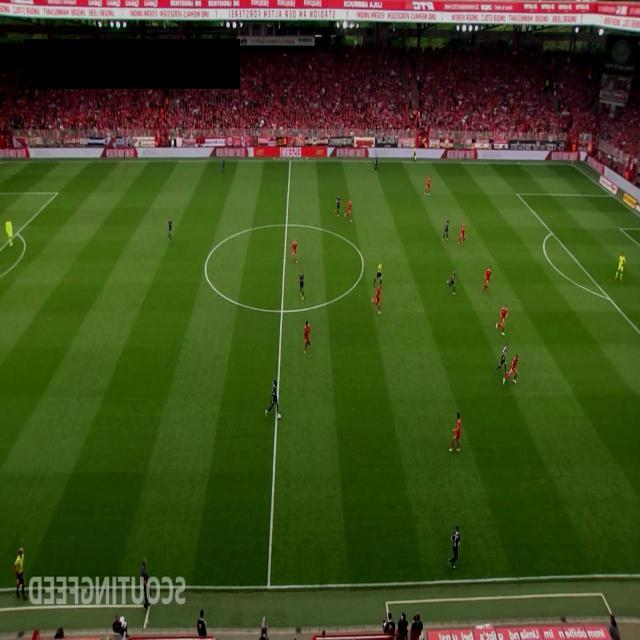Ball: (276, 412, 282, 420)
Corner: (570, 142, 576, 169)
GoalKeeper: (614, 252, 626, 282), (5, 220, 13, 244)
Referee: (12, 548, 28, 600), (373, 260, 382, 286), (412, 146, 418, 163)
TEAM 1: (502, 354, 520, 386), (448, 412, 462, 453), (496, 304, 508, 336), (372, 282, 382, 314), (483, 264, 493, 294), (303, 320, 311, 354), (458, 222, 466, 246), (344, 200, 352, 222), (292, 239, 298, 264), (424, 176, 431, 196)
TEAM 2: (264, 380, 282, 420), (448, 526, 462, 570), (494, 342, 508, 373), (446, 270, 456, 295), (442, 218, 450, 242), (299, 270, 305, 300), (373, 152, 379, 174), (168, 217, 172, 241), (336, 194, 340, 216), (221, 160, 225, 174)
